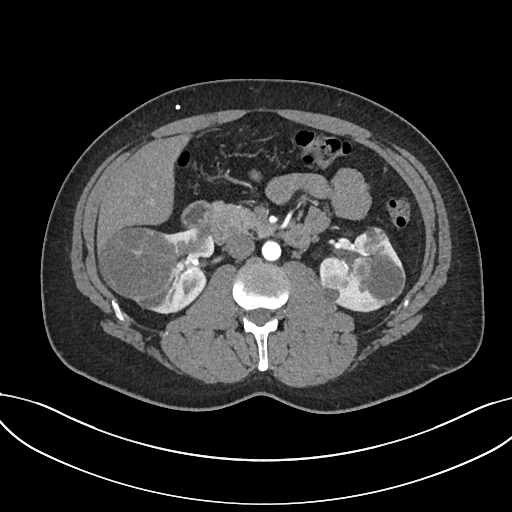Lesion: (97, 225, 178, 304)
